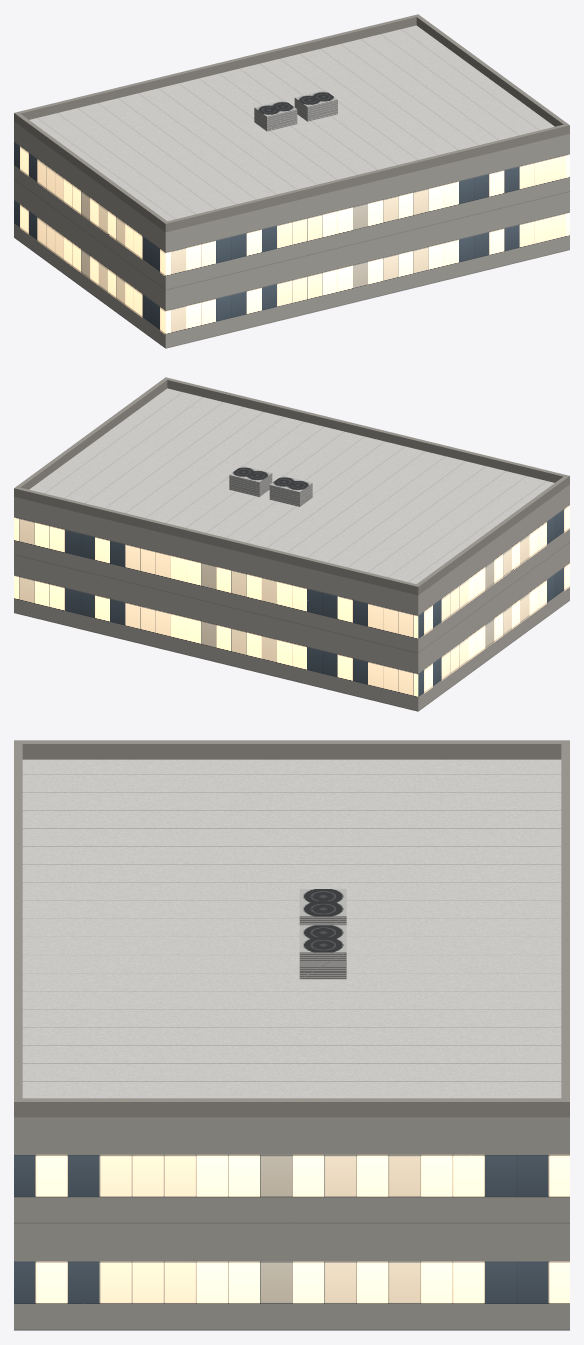
File: khsv_tower_base.glb
3 renders of one model, top to bottom at view 1: azimuth 30°, elevation 25°; view 2: azimuth 150°, elevation 25°; view 3: azimuth 270°, elevation 25°, orthographic. The views are drawn at different scales.
Parts seen in each view (by area): view 1: khsv_tower_base_office_wall, khsv_tower_base_roof, khsv_tower_base_coping, khsv_tower_base_ac_side, khsv_tower_base_ac_top; view 2: khsv_tower_base_office_wall, khsv_tower_base_roof, khsv_tower_base_coping, khsv_tower_base_ac_side, khsv_tower_base_ac_top; view 3: khsv_tower_base_roof, khsv_tower_base_office_wall, khsv_tower_base_coping, khsv_tower_base_ac_top, khsv_tower_base_ac_side.
Part boxes in pixels (x1,y1,x2,y2): khsv_tower_base_office_wall: (14, 121, 569, 348); khsv_tower_base_roof: (29, 25, 554, 220); khsv_tower_base_coping: (14, 14, 569, 232); khsv_tower_base_ac_side: (254, 98, 337, 131); khsv_tower_base_ac_top: (254, 90, 337, 116); khsv_tower_base_office_wall: (14, 484, 569, 711); khsv_tower_base_roof: (29, 388, 554, 583); khsv_tower_base_coping: (14, 377, 569, 595); khsv_tower_base_ac_side: (229, 473, 312, 506); khsv_tower_base_ac_top: (229, 465, 312, 491); khsv_tower_base_roof: (22, 759, 561, 1098); khsv_tower_base_office_wall: (14, 1117, 569, 1330); khsv_tower_base_coping: (14, 740, 569, 1117); khsv_tower_base_ac_top: (299, 889, 346, 952); khsv_tower_base_ac_side: (299, 916, 346, 979).
Bounding box in the file's own units: 40 × 12.4 × 26.
Materials: 5 (5 with a texture image).
